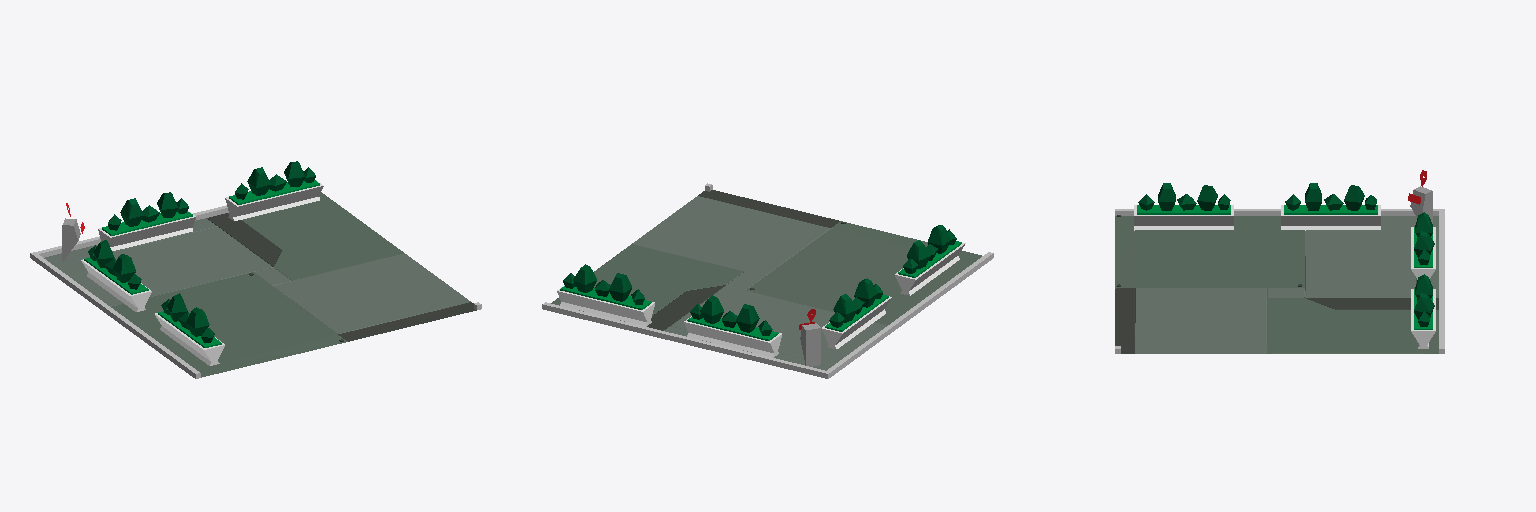
3 views of the same model, side by side, from view 1: azimuth 30°, elevation 25°; view 2: azimuth 150°, elevation 25°; view 3: azimuth 270°, elevation 25° (orthographic).
Visible parts, largest first — view 1: Scifi_Panel_04_Plaza014_group4.035_Scifi_Panel_04_Plaza014_group, base_pot.021_base_pot.025, base_pot.020_base_pot.024, base_pot.018_base_pot.022, base_pot.019_base_pot.023, Cube.1033_Cube.1157, panel.013_panel.020; view 2: Scifi_Panel_04_Plaza014_group4.035_Scifi_Panel_04_Plaza014_group, Cube.1033_Cube.1157, base_pot.021_base_pot.025, base_pot.020_base_pot.024, base_pot.019_base_pot.023, base_pot.018_base_pot.022, panel.013_panel.020; view 3: Scifi_Panel_04_Plaza014_group4.035_Scifi_Panel_04_Plaza014_group, base_pot.019_base_pot.023, base_pot.018_base_pot.022, Cube.1033_Cube.1157, base_pot.021_base_pot.025, base_pot.020_base_pot.024, panel.013_panel.020.
Boxes of the visible parts, box(x1,y1,x2,y2) form: Scifi_Panel_04_Plaza014_group4.035_Scifi_Panel_04_Plaza014_group: box(44, 192, 476, 377); base_pot.021_base_pot.025: box(225, 161, 323, 220); base_pot.020_base_pot.024: box(98, 192, 195, 250); base_pot.018_base_pot.022: box(81, 240, 151, 311); base_pot.019_base_pot.023: box(155, 293, 224, 365); Cube.1033_Cube.1157: box(30, 205, 228, 378); panel.013_panel.020: box(62, 203, 84, 261); Scifi_Panel_04_Plaza014_group4.035_Scifi_Panel_04_Plaza014_group: box(551, 190, 981, 370); Cube.1033_Cube.1157: box(542, 252, 993, 378); base_pot.021_base_pot.025: box(557, 264, 654, 326); base_pot.020_base_pot.024: box(684, 295, 781, 357); base_pot.019_base_pot.023: box(895, 225, 965, 295); base_pot.018_base_pot.022: box(821, 278, 891, 349); panel.013_panel.020: box(799, 309, 820, 366); Scifi_Panel_04_Plaza014_group4.035_Scifi_Panel_04_Plaza014_group: box(1115, 215, 1438, 353); base_pot.019_base_pot.023: box(1134, 183, 1233, 230); base_pot.018_base_pot.022: box(1281, 183, 1380, 230); Cube.1033_Cube.1157: box(1115, 209, 1444, 353); base_pot.021_base_pot.025: box(1411, 274, 1435, 348); base_pot.020_base_pot.024: box(1411, 212, 1435, 279); panel.013_panel.020: box(1408, 170, 1432, 223).
Size of the model in its own units: 10 by 1.89 by 10.